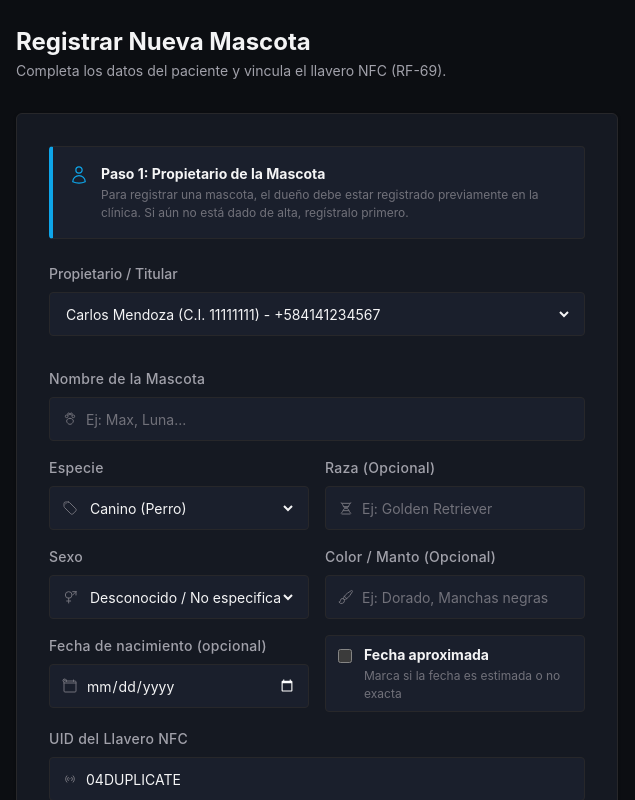
Test case: UI Integration: PetRegisterScreen (RF-69, RF-30, RNF-3) › debe alertar con advertencia no bloqueante si la mascota se crea pero el tag falla con 409 Conflict
Type "Luna" into the field with placeholder "Ej: Max, Luna..." at (329, 419), box [86, 398, 572, 440]
(page scrolled)
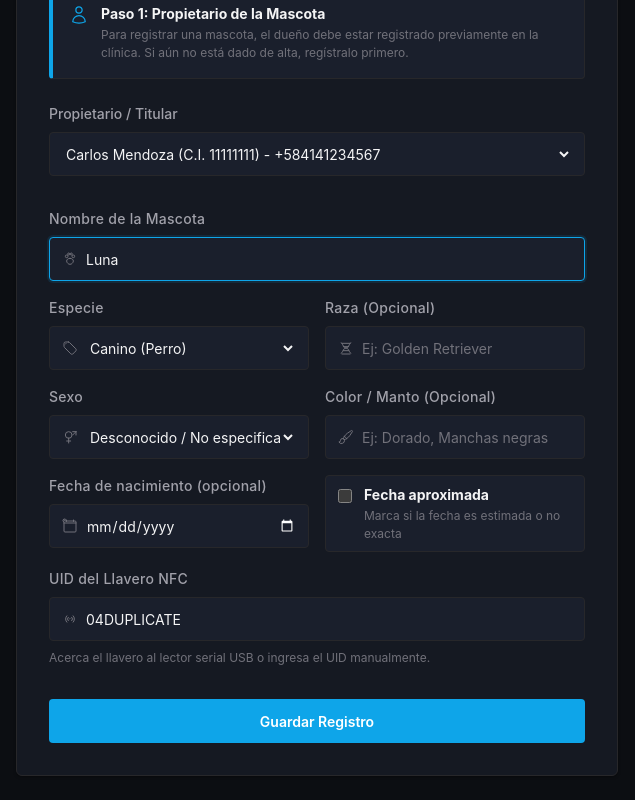
Click the button "Guardar Registro" at (317, 721), box [49, 699, 585, 743]
(page scrolled)
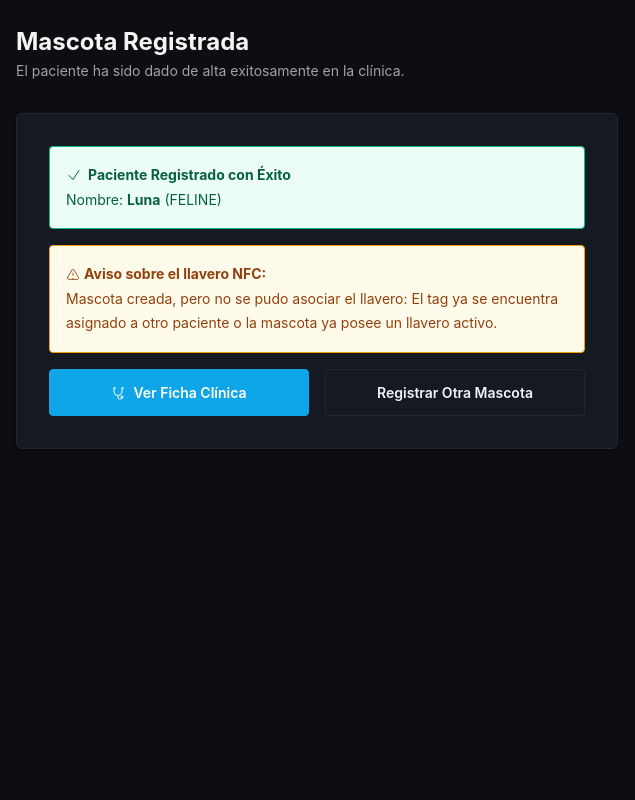
Check: the text "Mascota creada, pero no se pudo asociar el llavero" is shown, box [66, 290, 558, 331]
